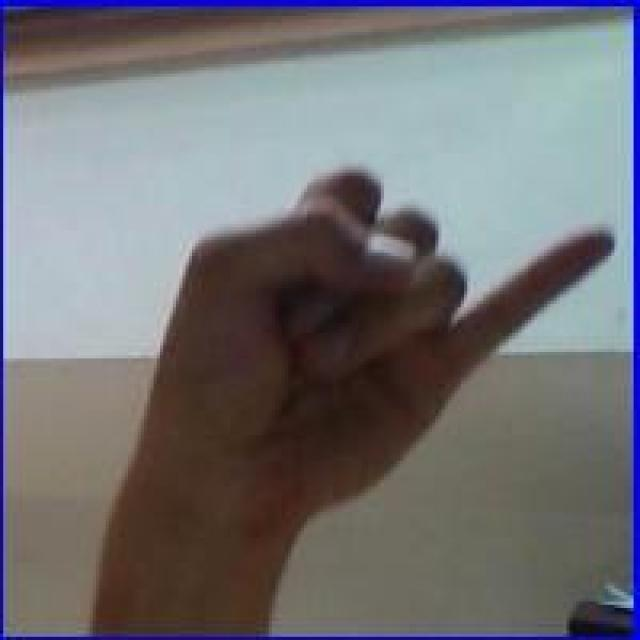J: (123, 162, 622, 523)
